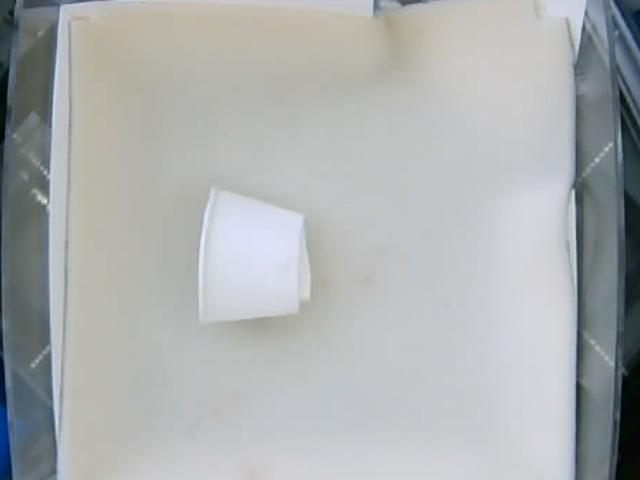Cup: (197, 186, 311, 326)
